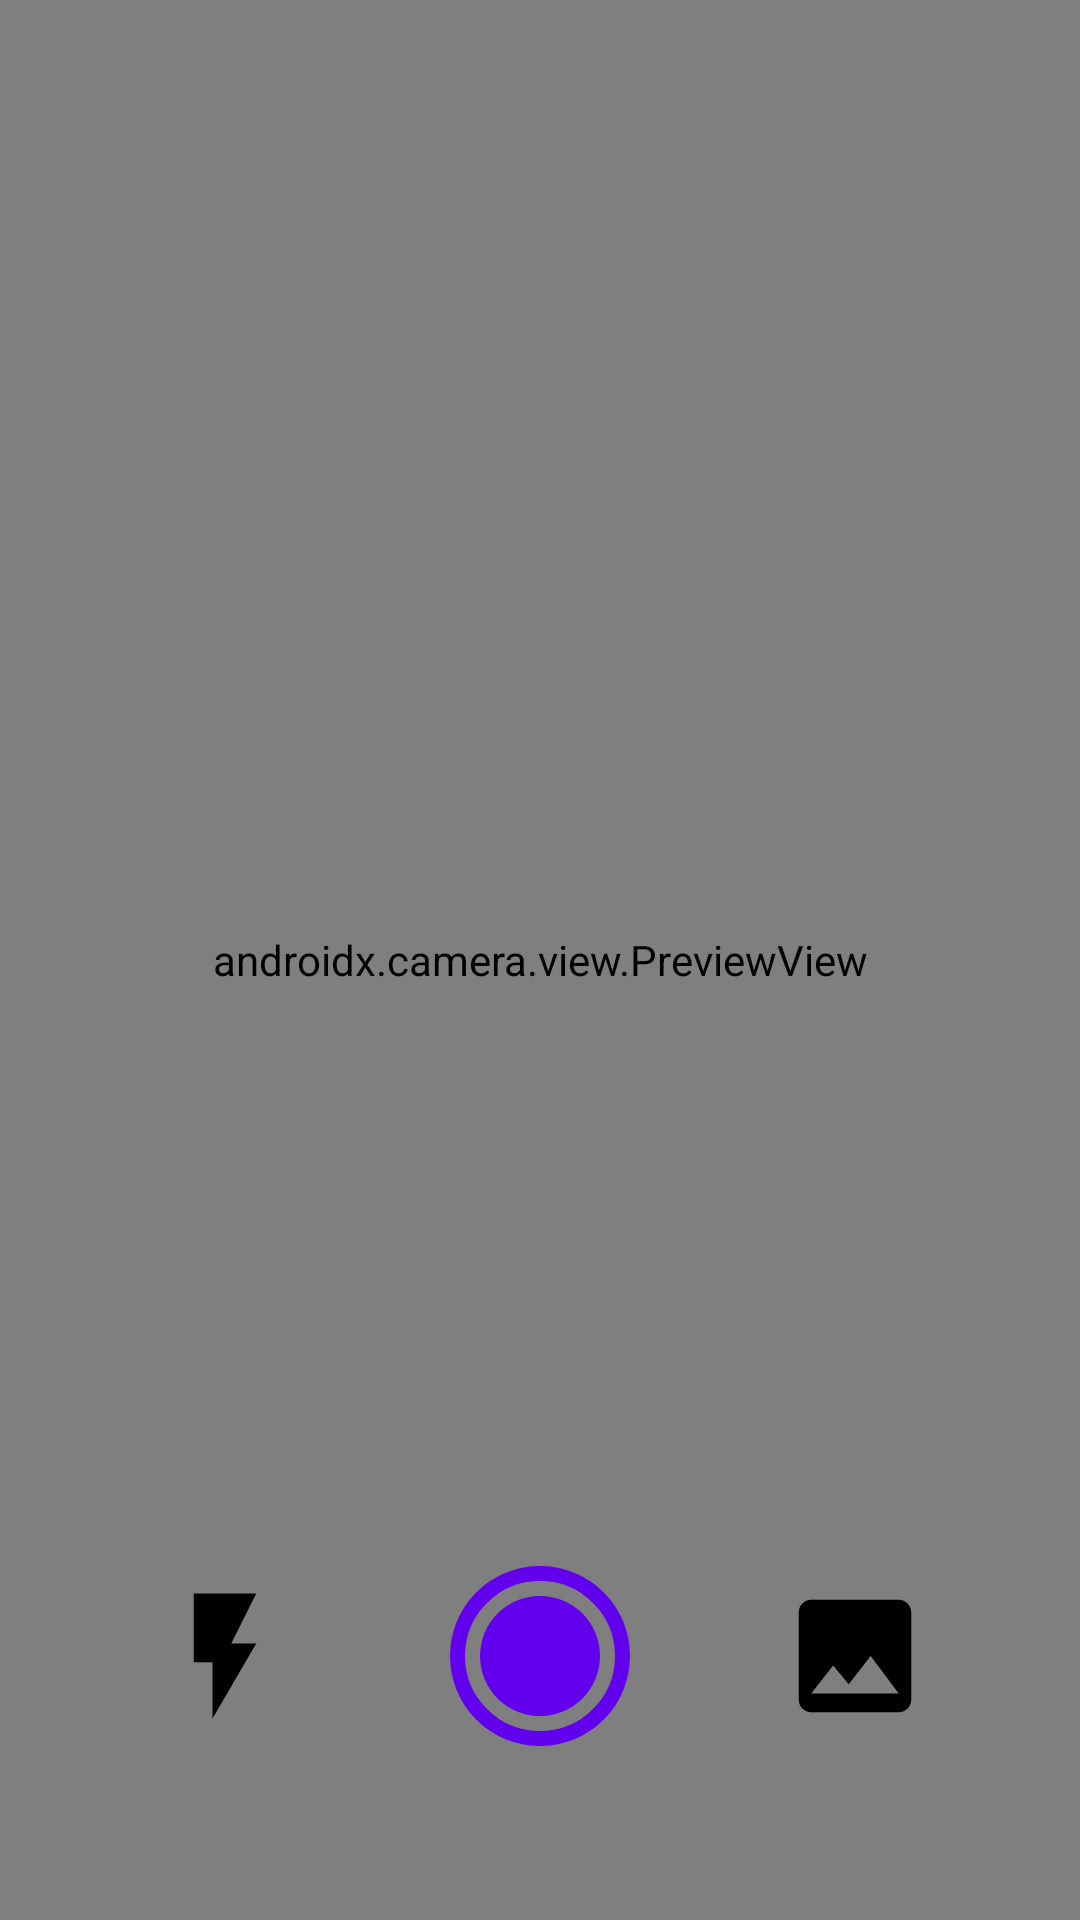

Icons on this 1080 x 1920 Android screen, each with the point to tap as [x,y]:
Capture Image: [540,1656]
Select From Album: [855,1656]
